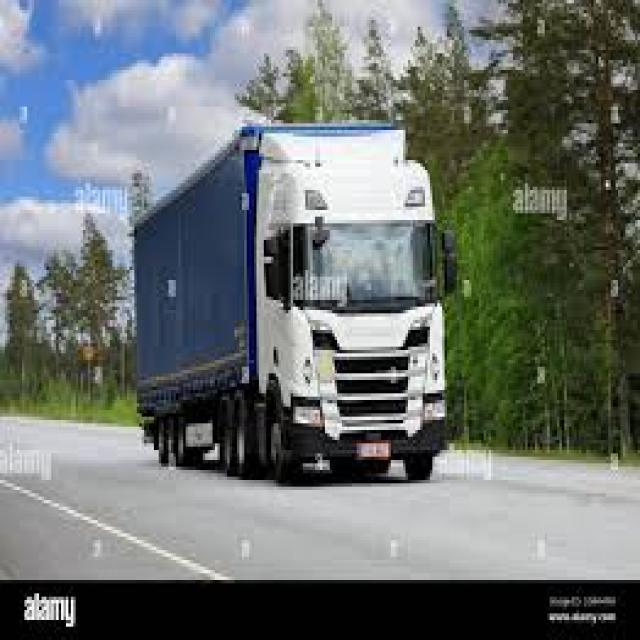covered: (127, 116, 457, 484)
